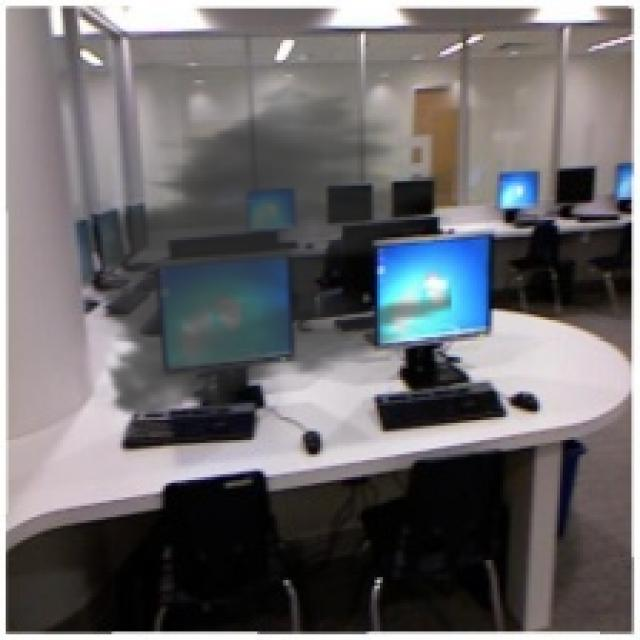smoke: (74, 74, 452, 440)
